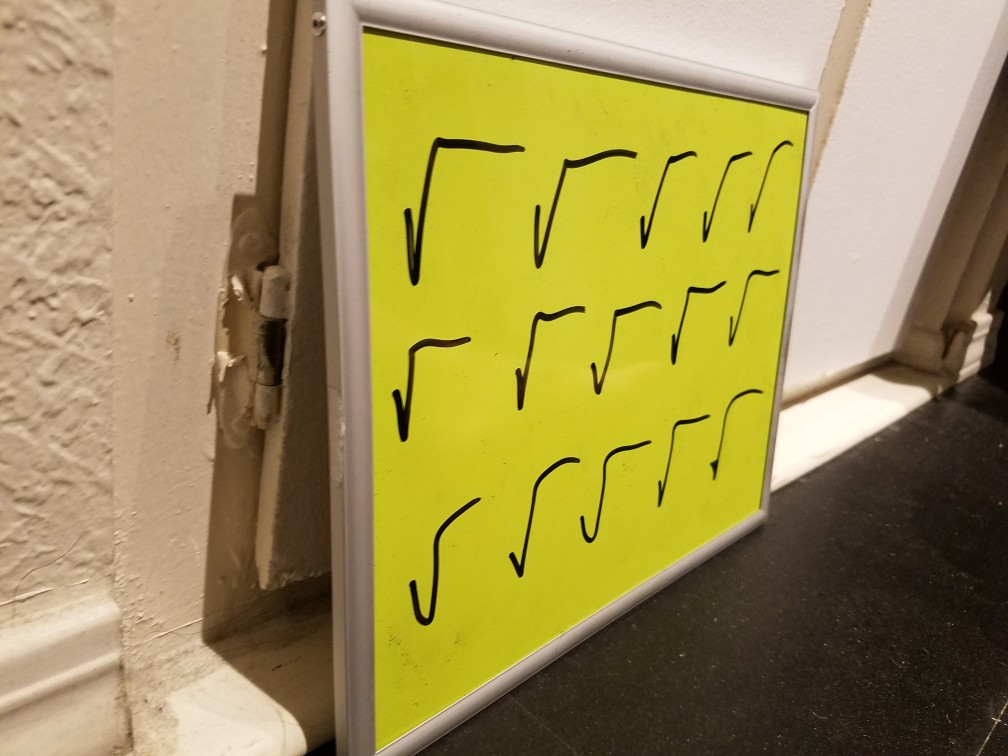sqrt: (385, 111, 524, 295), (532, 112, 633, 282), (382, 487, 492, 640), (381, 329, 485, 466), (499, 444, 581, 586), (501, 298, 591, 421), (581, 434, 653, 566), (586, 292, 662, 415), (657, 266, 730, 376), (636, 139, 695, 263), (650, 415, 710, 526), (712, 388, 768, 505), (698, 124, 746, 250), (748, 121, 793, 250), (728, 262, 783, 364)
